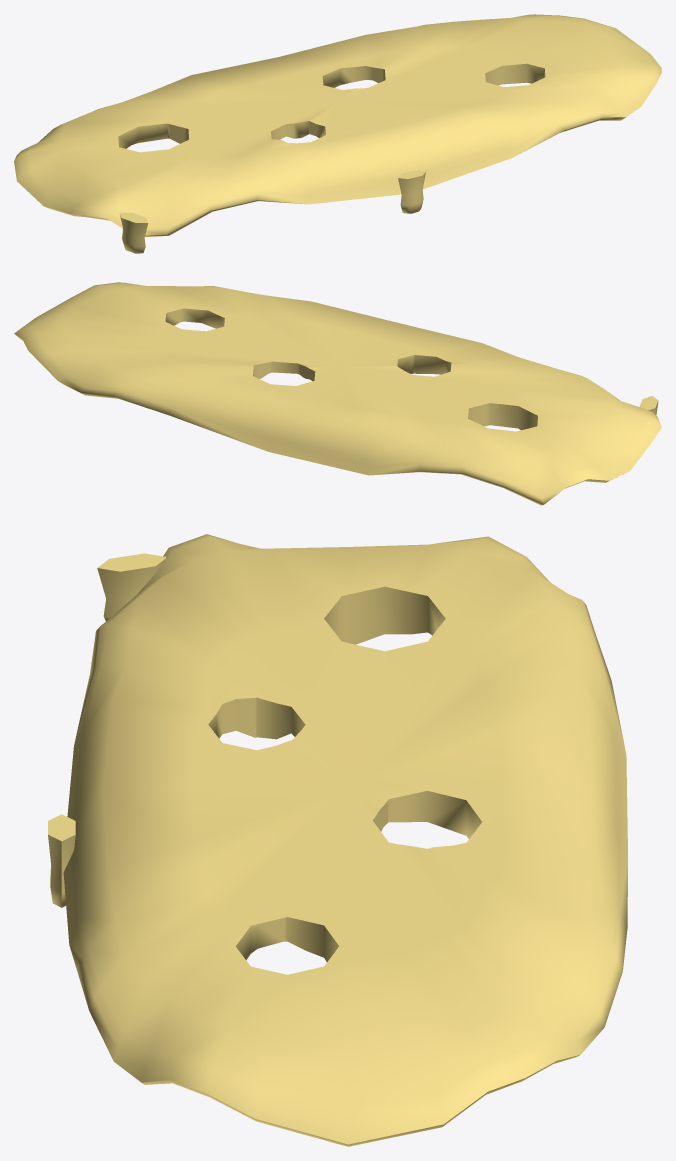
Rendered from Food_Swiss_Melted.fbx.
The picture shows the model from 3 angles, top to bottom: view 1: azimuth 30°, elevation 25°; view 2: azimuth 150°, elevation 25°; view 3: azimuth 270°, elevation 25°; orthographic projection. The views are drawn at different scales.
Visible parts, largest first — view 1: Cheese; view 2: Cheese; view 3: Cheese.
Boxes of the visible parts, bbox=[...] form: Cheese: bbox=[14, 14, 661, 253]; Cheese: bbox=[14, 282, 661, 505]; Cheese: bbox=[48, 534, 627, 1146].
Size of the model in its own units: 228 by 22.55 by 95.27.
